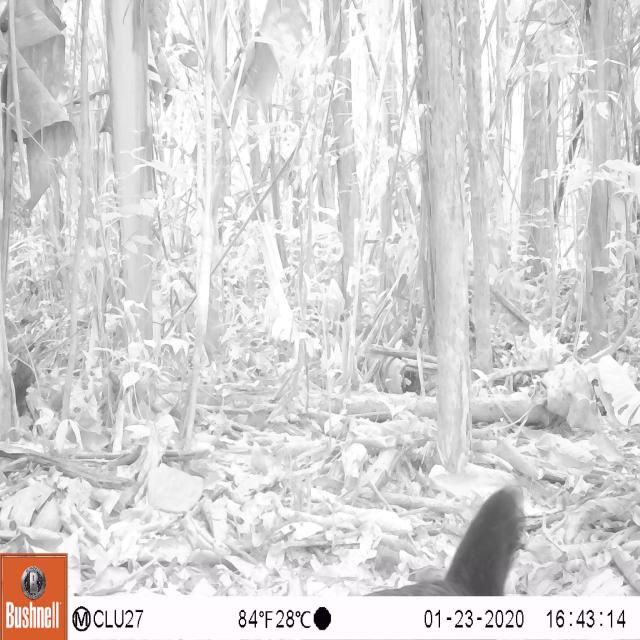Salvins Curassow: (342, 473, 542, 598)
